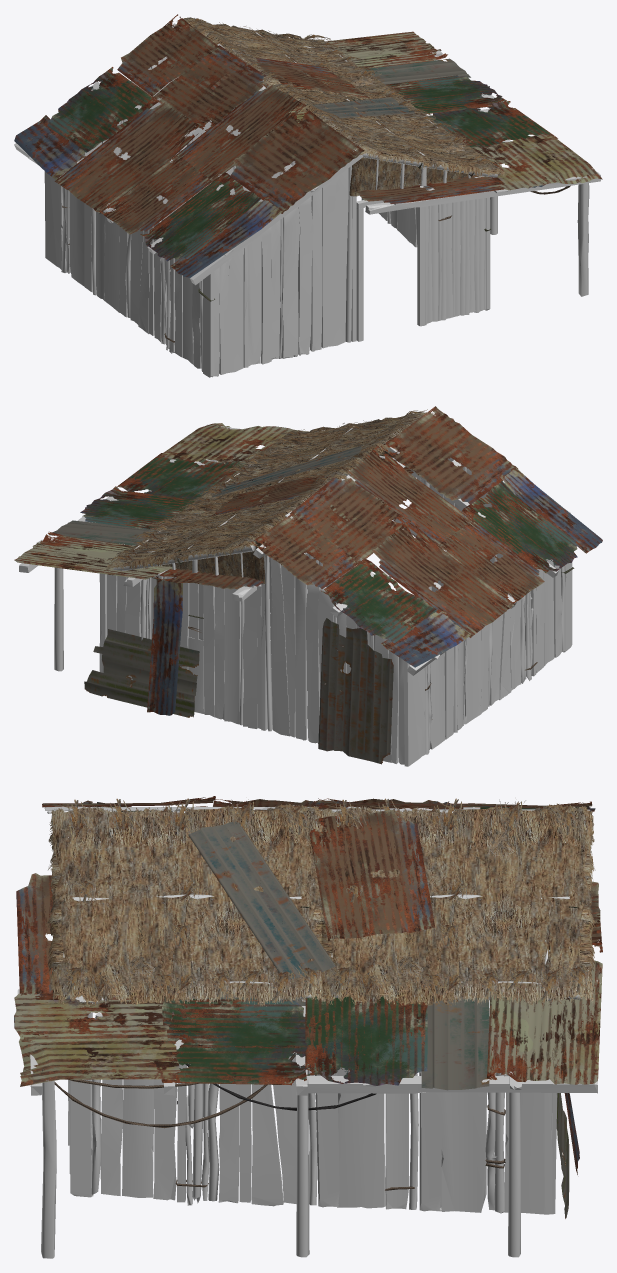
The model's file is House1.fbx.
The picture shows the model from 3 angles, top to bottom: view 1: azimuth 30°, elevation 25°; view 2: azimuth 150°, elevation 25°; view 3: azimuth 270°, elevation 25°; orthographic projection. The views are drawn at different scales.
Visible parts, largest first — view 1: pal_b00_building_VillageHouse03.mo; view 2: pal_b00_building_VillageHouse03.mo; view 3: pal_b00_building_VillageHouse03.mo.
Part boxes in pixels (x1,y1,x2,y2): pal_b00_building_VillageHouse03.mo: (14,14,602,377); pal_b00_building_VillageHouse03.mo: (14,406,602,766); pal_b00_building_VillageHouse03.mo: (14,796,602,1258).
Bounding box in the file's own units: 720 × 350 × 604.
